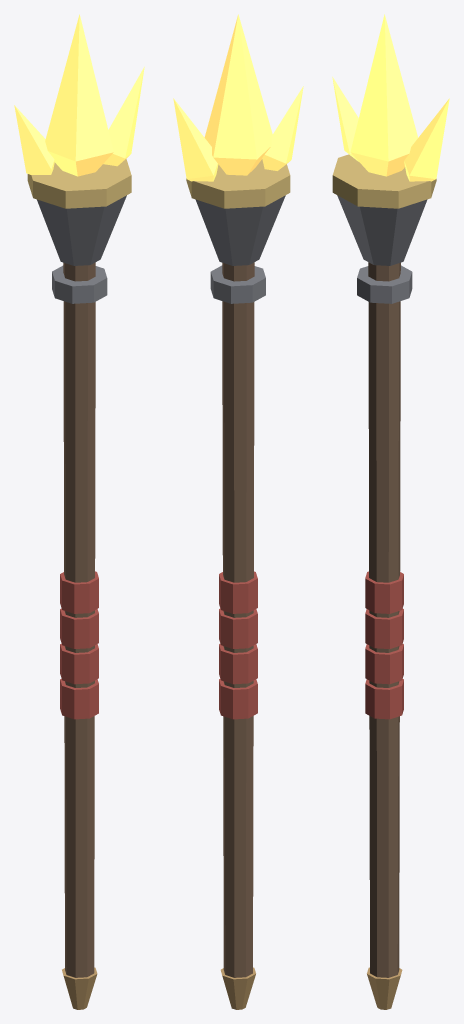
File: baston_fuego.glb
3 renders of one model, left to right at view 1: azimuth 30°, elevation 25°; view 2: azimuth 210°, elevation 25°; view 3: azimuth 330°, elevation 25°, orthographic.
Visible parts, largest first — view 1: baston_fuego; view 2: baston_fuego; view 3: baston_fuego.
Part boxes in pixels (box(x1,y1,x2,y2)): baston_fuego: box(14, 14, 144, 1009); baston_fuego: box(173, 14, 303, 1009); baston_fuego: box(332, 14, 449, 1009).
Size of the model in its own units: 0.2214 by 1.7 by 0.1664.
